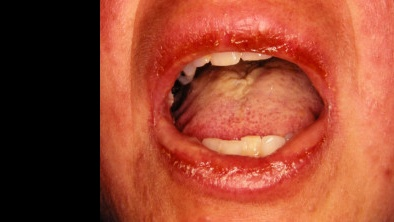SJS-TEN: (131, 0, 342, 134), (146, 129, 337, 207)
